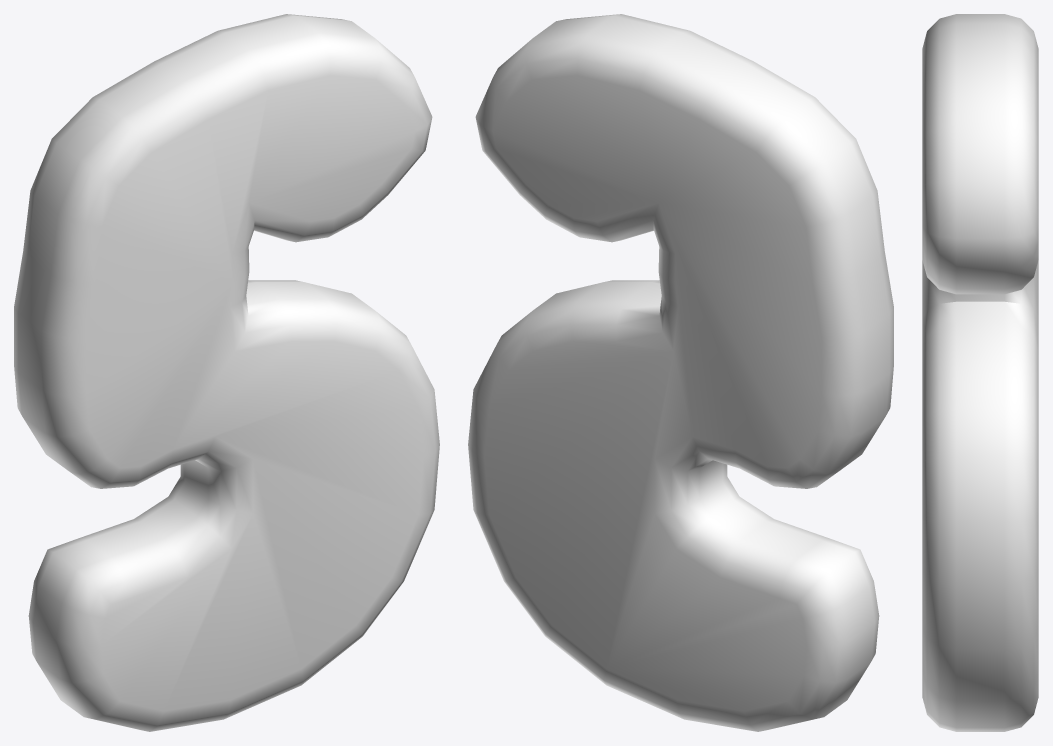
Rendered from NumberFive 1.fbx.
The picture shows the model from 3 angles, left to right: view 1: azimuth 30°, elevation 25°; view 2: azimuth 150°, elevation 25°; view 3: azimuth 270°, elevation 25°; orthographic projection. The views are drawn at different scales.
Parts seen in each view (by area): view 1: Vert.007; view 2: Vert.007; view 3: Vert.007.
Part boxes in pixels (bbox=[...]): Vert.007: bbox=[14, 14, 439, 731]; Vert.007: bbox=[468, 14, 893, 731]; Vert.007: bbox=[922, 14, 1038, 731].
Bounding box in the file's own units: 204 × 327 × 50.18.
